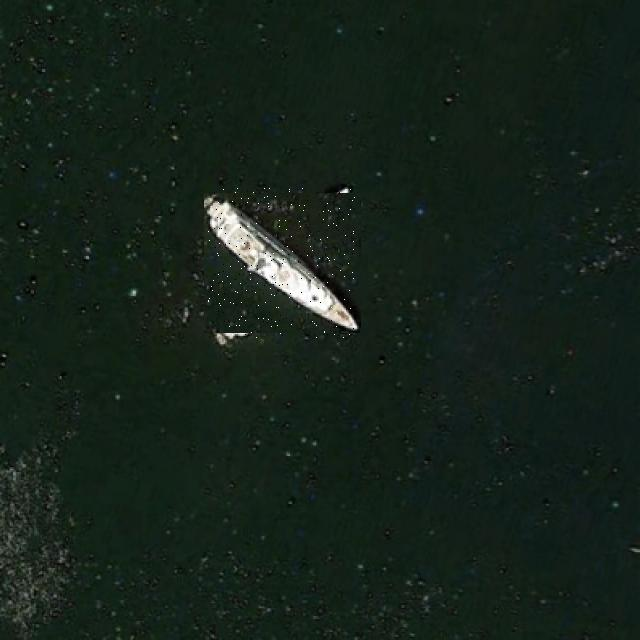boat: (208, 188, 356, 338)
